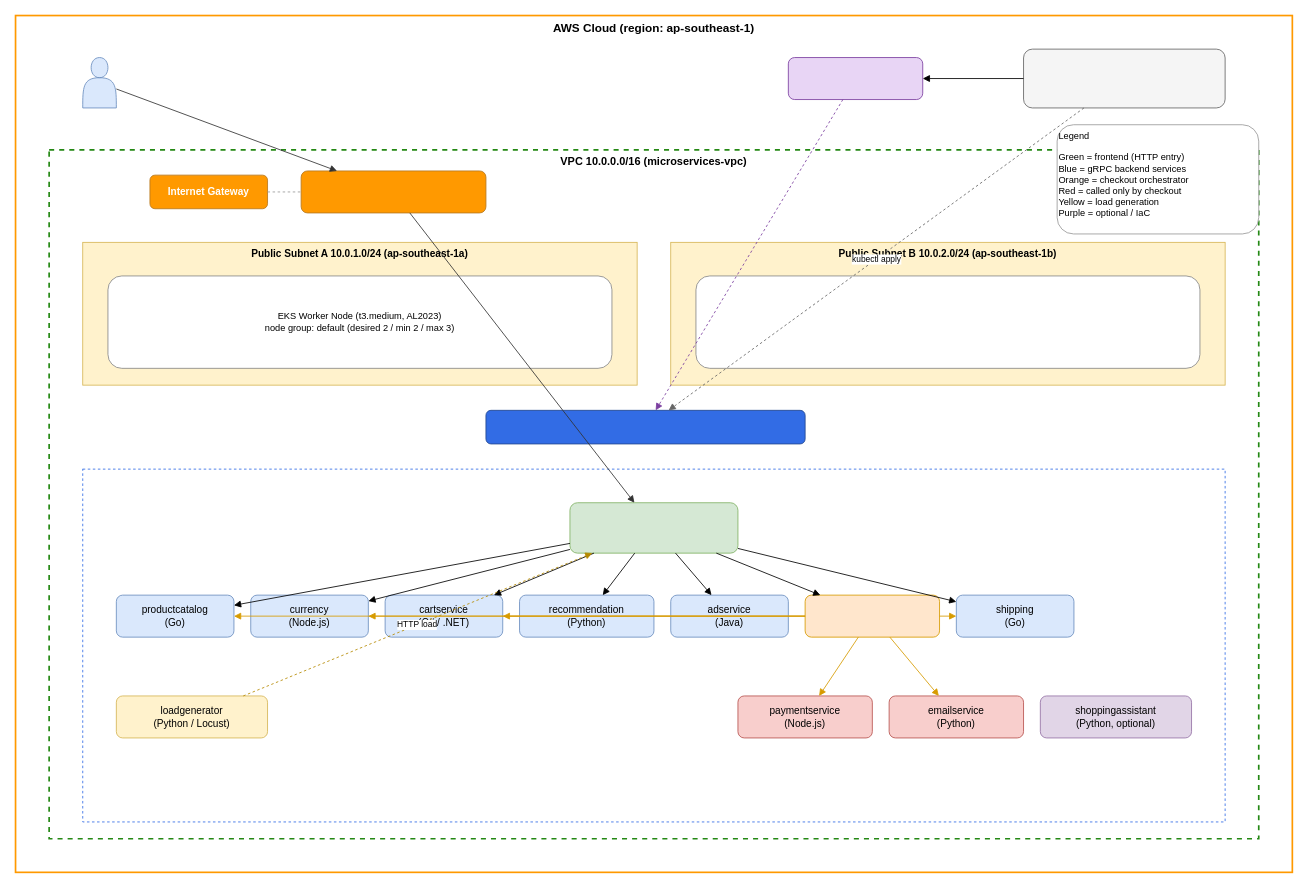
Image size: 1307x887. Some labels were removed from this diagram. The box of each missing label's shape, as (x1, y1, x2, y2) in pixels:
AWS ELB (frontend-external LoadBalancer): (300, 170, 486, 213)
checkoutservice (Go): (804, 594, 940, 637)
EKS Control Plane (microservices-eks): (485, 410, 805, 444)
EKS Worker Node (t3.medium, AL2023): (695, 275, 1200, 368)
End User: (82, 57, 116, 108)
frontend (Go) HTTP: (569, 502, 738, 553)
GitHub Actions deploy.yml (workflow_dispatch | [deploy-aws]): (1023, 48, 1225, 108)
Kubernetes workloads (gRPC unless noted): (82, 468, 1225, 822)
Terraform (S3 remote state): (788, 57, 923, 100)
